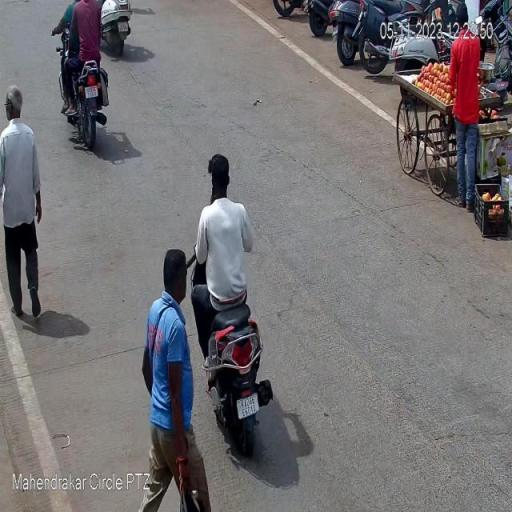using mobile: (208, 180, 218, 206)
